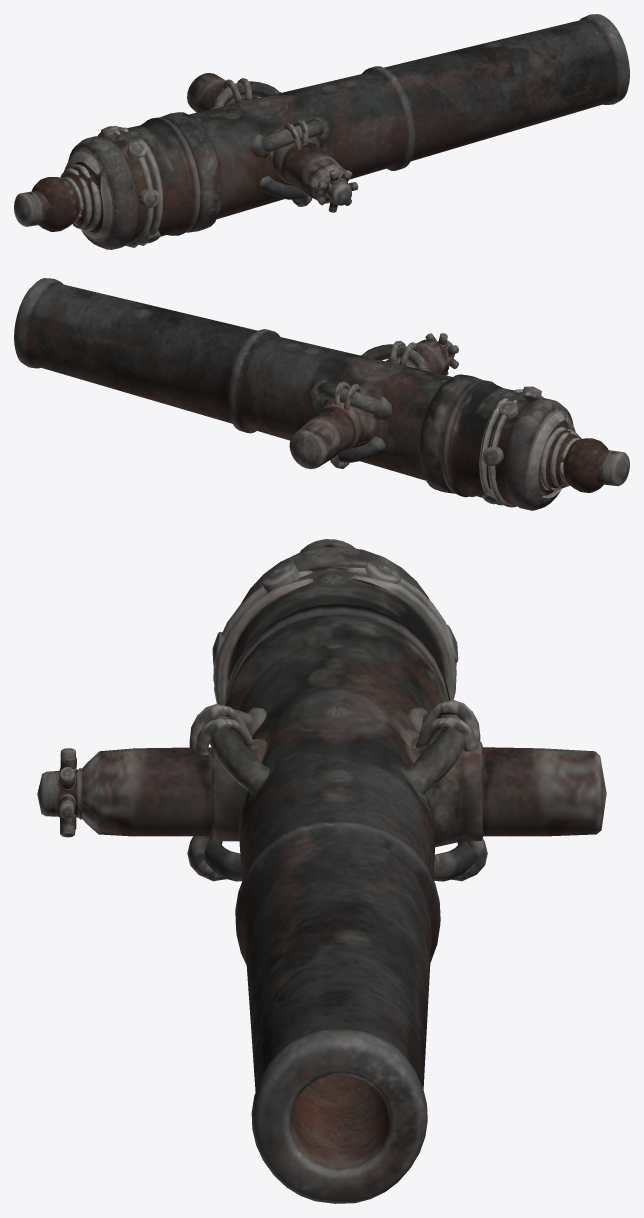
Rendered from cannon_barrel.glb.
3 renders of one model, top to bottom at view 1: azimuth 30°, elevation 25°; view 2: azimuth 150°, elevation 25°; view 3: azimuth 270°, elevation 25°, orthographic. The views are drawn at different scales.
Parts seen in each view (by area): view 1: cannon_cannons_0.001; view 2: cannon_cannons_0.001; view 3: cannon_cannons_0.001.
Part boxes in pixels (<box>): cannon_cannons_0.001: <box>14,14,629,249</box>; cannon_cannons_0.001: <box>14,278,629,510</box>; cannon_cannons_0.001: <box>37,539,606,1203</box>.
Size of the model in its own units: 3.06 by 0.5536 by 1.27.
Materials: 1 (1 with a texture image).
